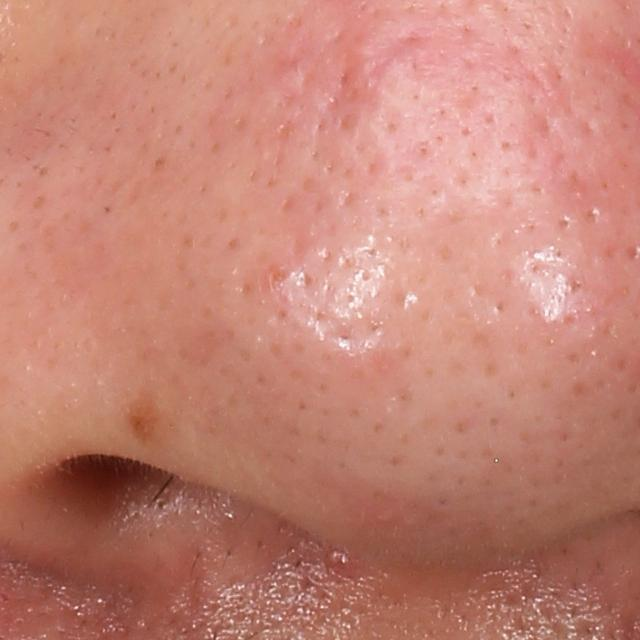nevus: (120, 382, 161, 448)
